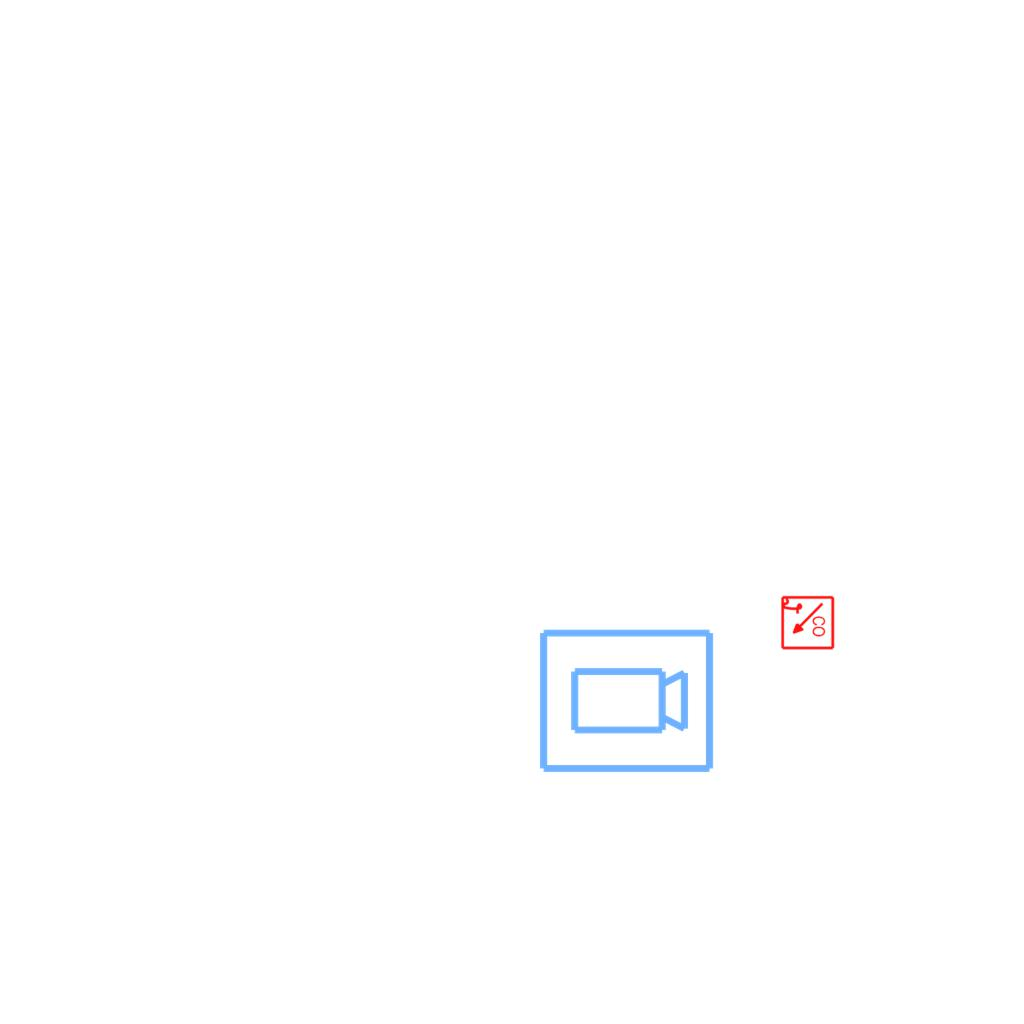KFO_Kamera_mit_Festobjektiv: (535, 625, 717, 779)
ROA_Rauchmelder_optisch_mit_Signalgeber_(Sockelsirene): (779, 595, 835, 651)
